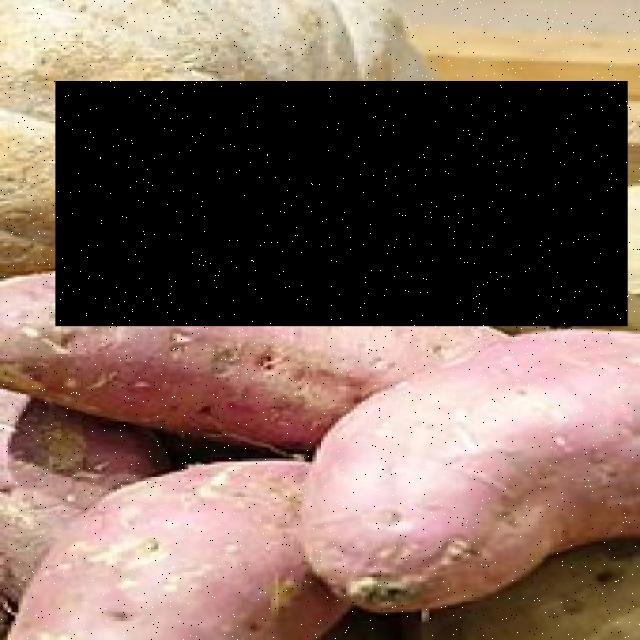Sweet_Potato: (55, 80, 628, 326)
